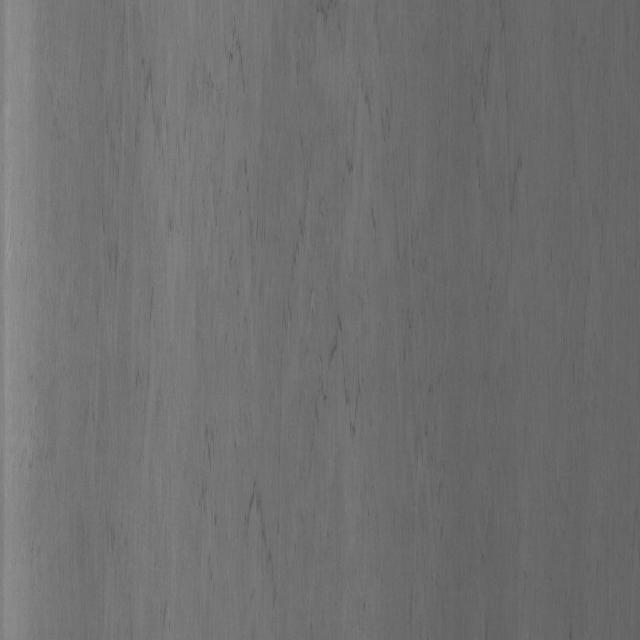inclusion: (179, 16, 428, 568)
